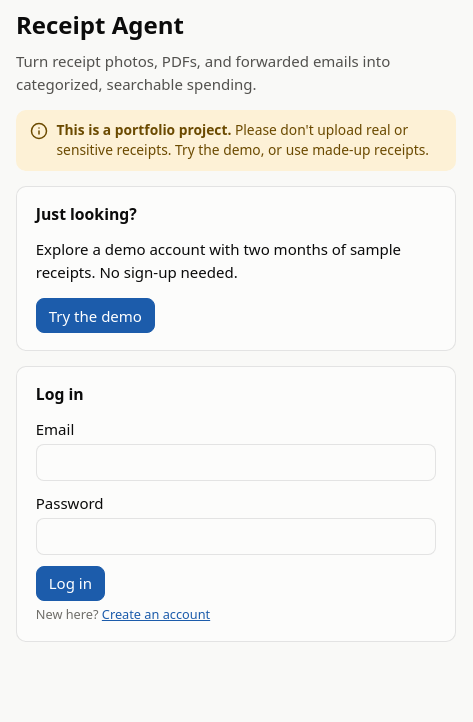
Test case: shows why a login failed
In the field labelled "Email": (236, 463) [36,444,436,481], type "you@example.com"
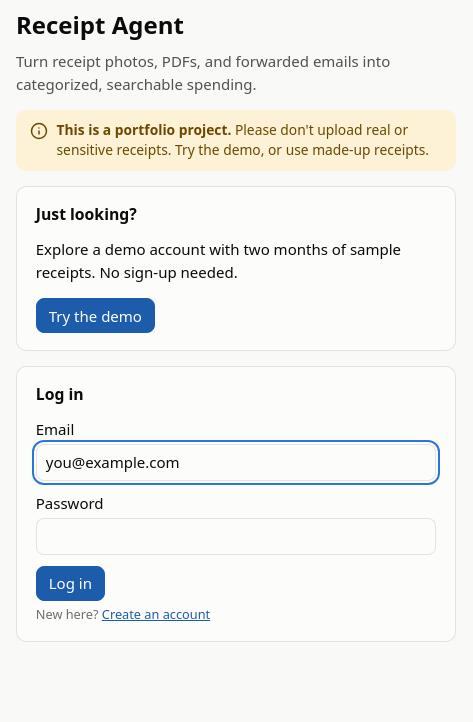
In the password field labelled "Password": (236, 537) [36,518,436,555], type "wrong password"
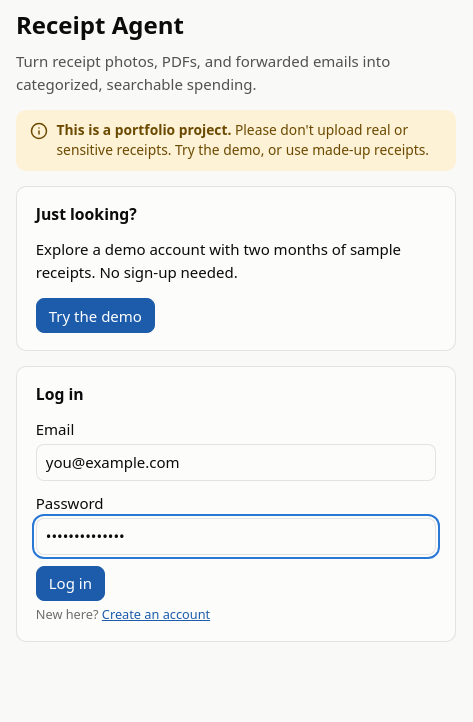
Click the button "Log in": (70, 584) [36,566,105,601]
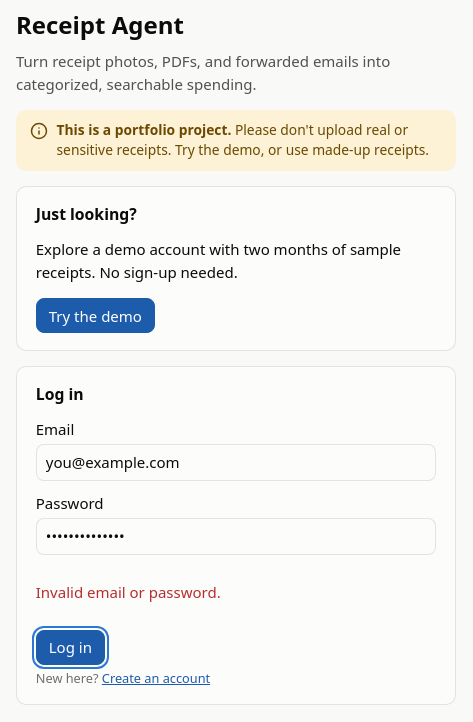
Expected: the text "Invalid email or password." is shown, [36,582,221,602]
